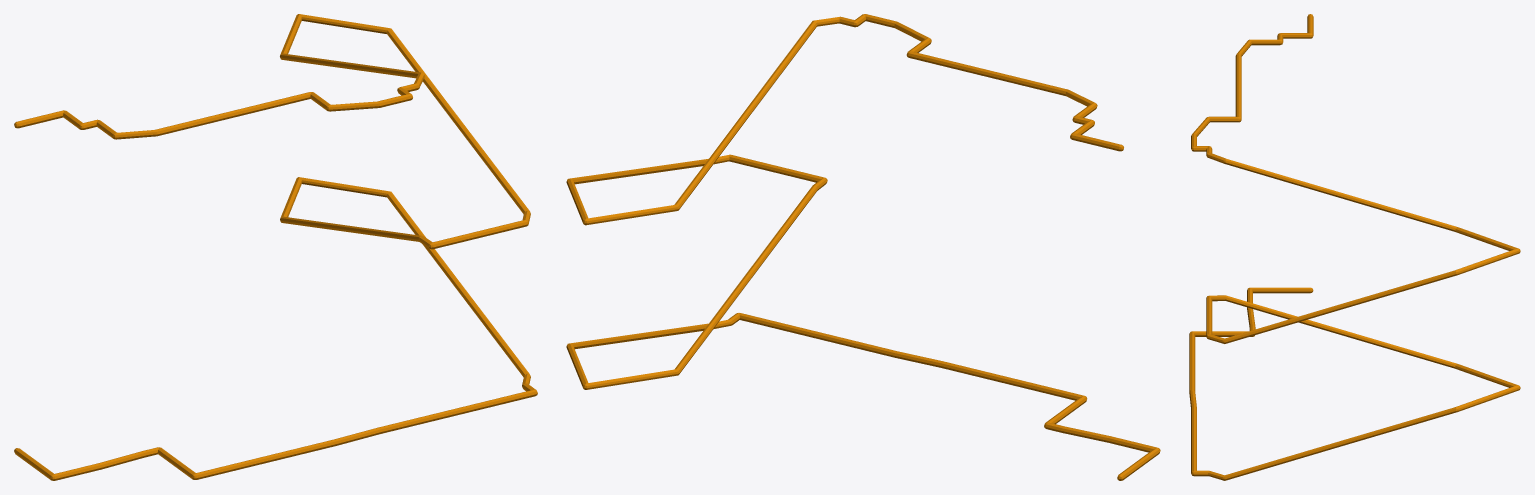
3 renders of one model, left to right at view 1: azimuth 30°, elevation 25°; view 2: azimuth 150°, elevation 25°; view 3: azimuth 270°, elevation 25°, orthographic. The views are drawn at different scales.
Bounding box in the file's own units: 1492 × 1020 × 1098.
